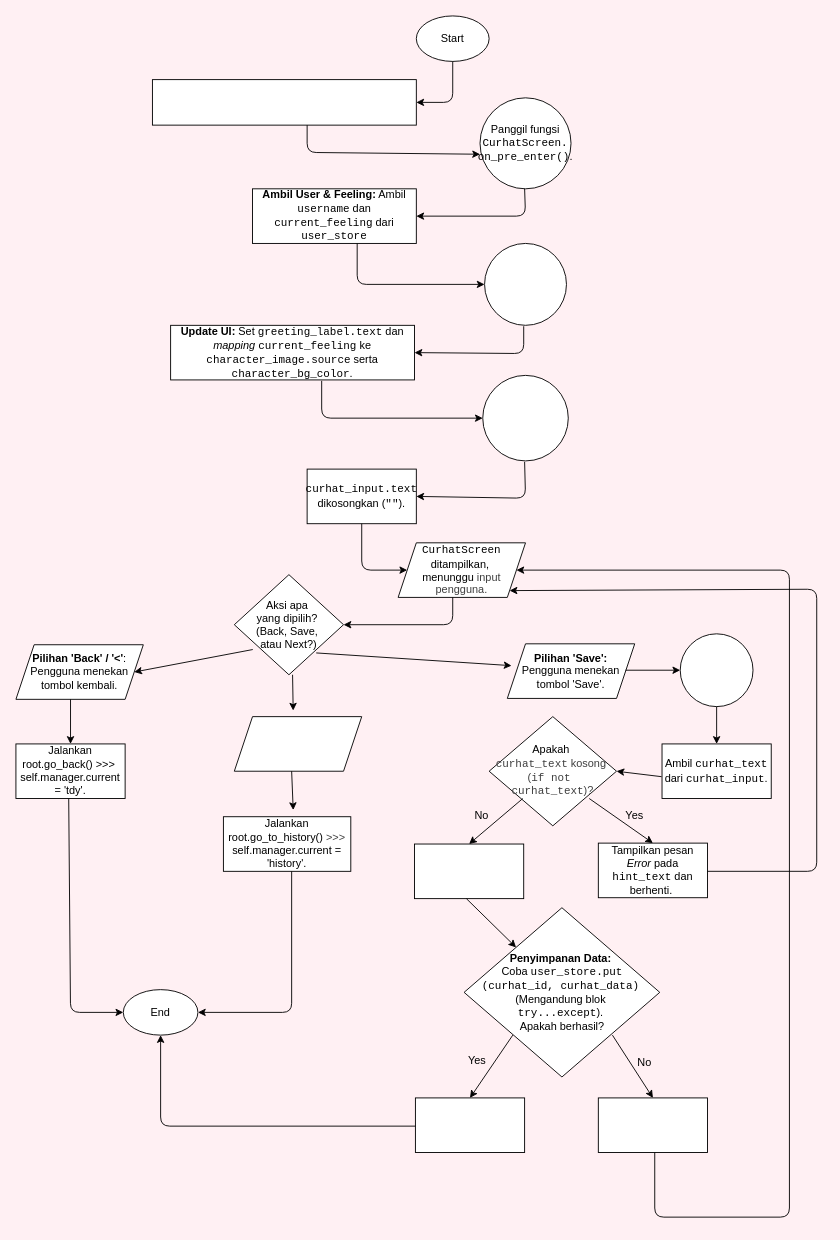
Some shapes in this 840 by 1240 pixel diagram are drawn without their labels. Here are the shapes that lost their labels. From the top down, the centre of each, then its label:
pixel 284 102: Muat desain Builder.load_file('screen/curhat_screen.kv') dieksekusi.
pixel 525 284: Panggil fungsi CurhatScreen. update_ui() .
pixel 525 417: Panggil fungsi CurhatScreen. on_enter() .
pixel 716 670: Panggil root.save_ curhat() .
pixel 297 743: Pilihan 'Next': Pengguna menekan tombol 'Next'.
pixel 469 871: Buat timestamp dan paket curhat_data .
pixel 470 1125: Bersihkan input, set hint_text ke "✓ Curhat berhasil disimpan!"
pixel 652 1125: Tampilkan pesan Error gagal menyimpan.
